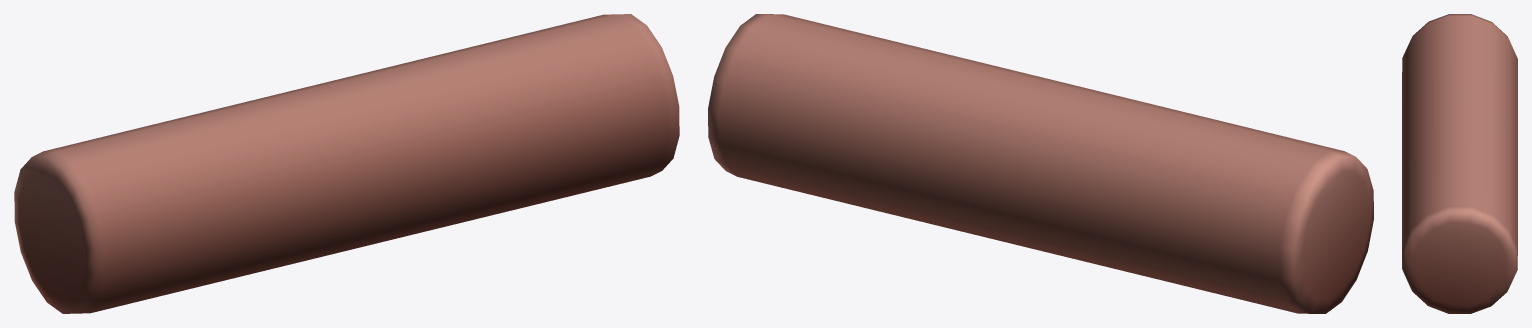
The model's file is Forest_CillinderBig.fbx.
The picture shows the model from 3 angles, left to right: view 1: azimuth 30°, elevation 25°; view 2: azimuth 150°, elevation 25°; view 3: azimuth 270°, elevation 25°; orthographic projection. The views are drawn at different scales.
Visible parts, largest first — view 1: Cylinder.005; view 2: Cylinder.005; view 3: Cylinder.005.
Part boxes in pixels (box(x1,y1,x2,y2)): Cylinder.005: box(14, 14, 679, 313); Cylinder.005: box(708, 14, 1373, 313); Cylinder.005: box(1402, 14, 1517, 313).
Size of the model in its own units: 460 by 112 by 112.
